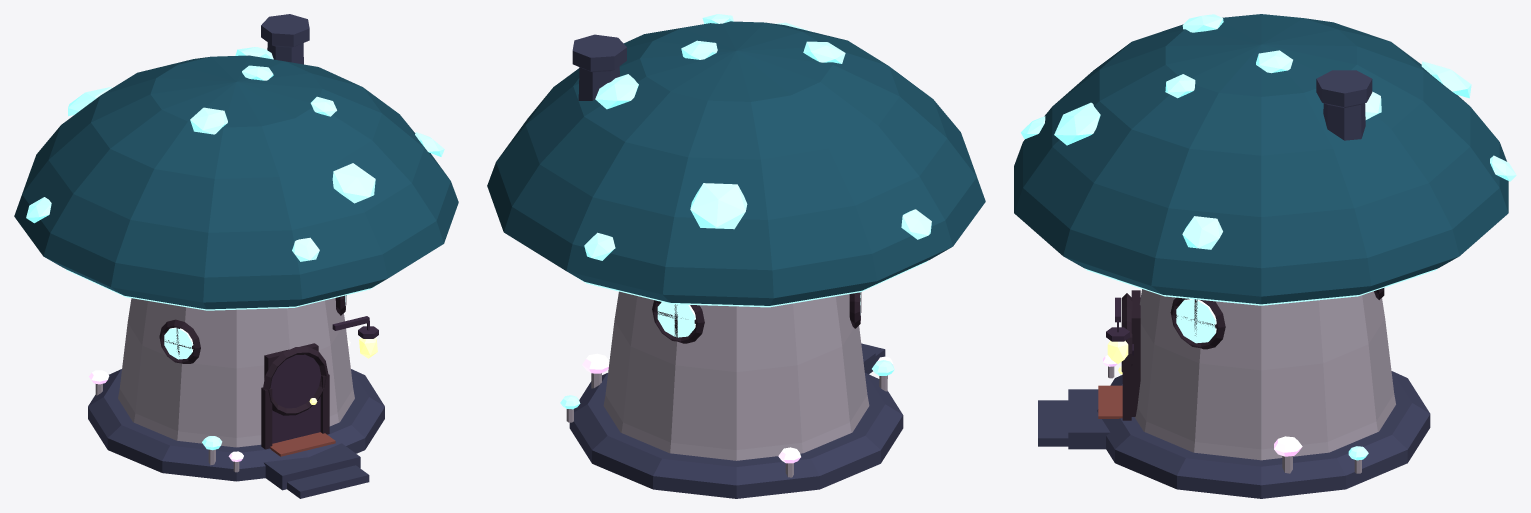
Rendered from maison_champignon_modele.glb.
The picture shows the model from 3 angles, left to right: view 1: azimuth 30°, elevation 25°; view 2: azimuth 150°, elevation 25°; view 3: azimuth 270°, elevation 25°; orthographic projection. The views are drawn at different scales.
Parts seen in each view (by area): view 1: Chapeau, L1, L3, P42, L40, P43, P24.003, P9.007, P23.006, P21.004, P44, P22.004 (+8 smaller); view 2: Chapeau, L1, L3, L40, P12.007, P36, P11.007, P14.007, P37, L7, P13.006, P17.004 (+1 smaller); view 3: Chapeau, L1, L3, L40, P42, P43, P28.005, P9.007, P19.006, P10, P29.002, P44 (+5 smaller).
Part boxes in pixels (bbox=[...]): Chapeau: bbox=[14, 55, 458, 309]; L1: bbox=[118, 298, 354, 447]; L3: bbox=[88, 369, 384, 481]; P42: bbox=[264, 443, 360, 490]; L40: bbox=[261, 14, 309, 64]; P43: bbox=[287, 465, 369, 498]; P24.003: bbox=[263, 346, 328, 415]; P9.007: bbox=[332, 163, 375, 203]; P23.006: bbox=[270, 354, 320, 401]; P21.004: bbox=[287, 377, 303, 439]; P44: bbox=[270, 432, 335, 456]; P22.004: bbox=[304, 373, 320, 435]; Chapeau: bbox=[487, 21, 985, 305]; L1: bbox=[603, 291, 869, 460]; L3: bbox=[569, 373, 903, 498]; L40: bbox=[572, 34, 626, 100]; P12.007: bbox=[690, 183, 747, 229]; P36: bbox=[657, 302, 695, 337]; P11.007: bbox=[595, 74, 638, 109]; P14.007: bbox=[803, 41, 845, 63]; P37: bbox=[652, 300, 704, 343]; L7: bbox=[575, 261, 927, 307]; P13.006: bbox=[901, 209, 931, 239]; P17.004: bbox=[584, 232, 615, 260]; Chapeau: bbox=[1014, 14, 1508, 304]; L1: bbox=[1134, 289, 1395, 460]; L3: bbox=[1097, 371, 1430, 498]; L40: bbox=[1316, 70, 1372, 140]; P42: bbox=[1068, 389, 1110, 449]; P43: bbox=[1038, 400, 1068, 446]; P28.005: bbox=[1176, 299, 1216, 343]; P9.007: bbox=[1054, 102, 1100, 145]; P19.006: bbox=[1131, 290, 1140, 416]; P10: bbox=[1182, 216, 1222, 249]; P29.002: bbox=[1170, 297, 1225, 349]; P44: bbox=[1098, 385, 1122, 418].
Bounding box in the file's own units: 3.36 × 2.88 × 3.33.
